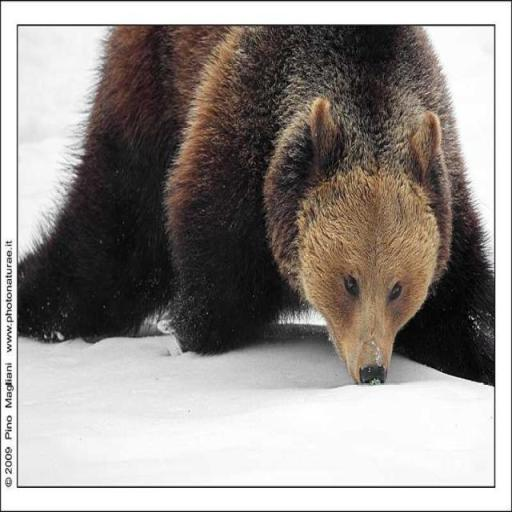Bear: (17, 23, 494, 386)
